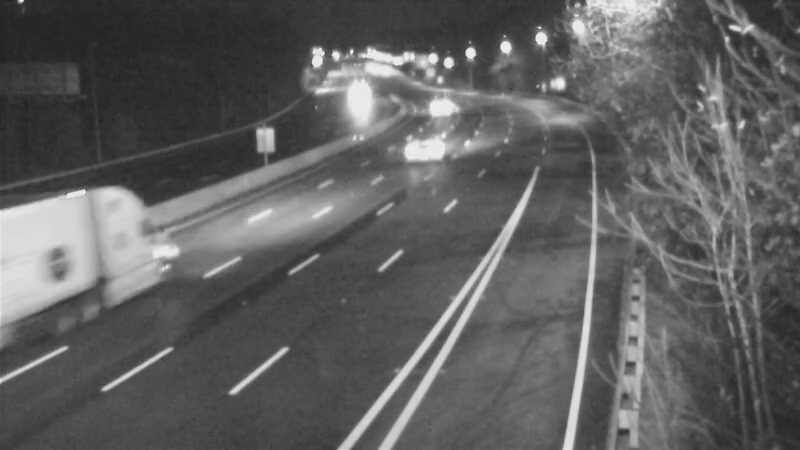vehicle: (41, 233, 121, 313), (414, 79, 464, 129), (409, 113, 459, 163), (332, 82, 382, 132)
